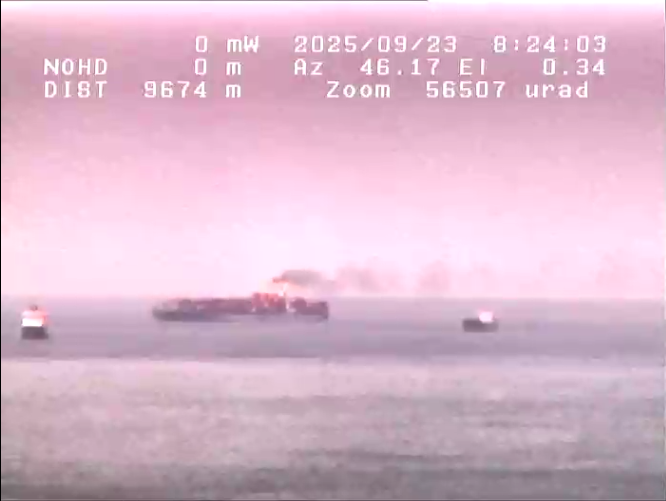TANKER: (143, 284, 352, 320), (8, 298, 55, 342), (455, 305, 502, 333)
